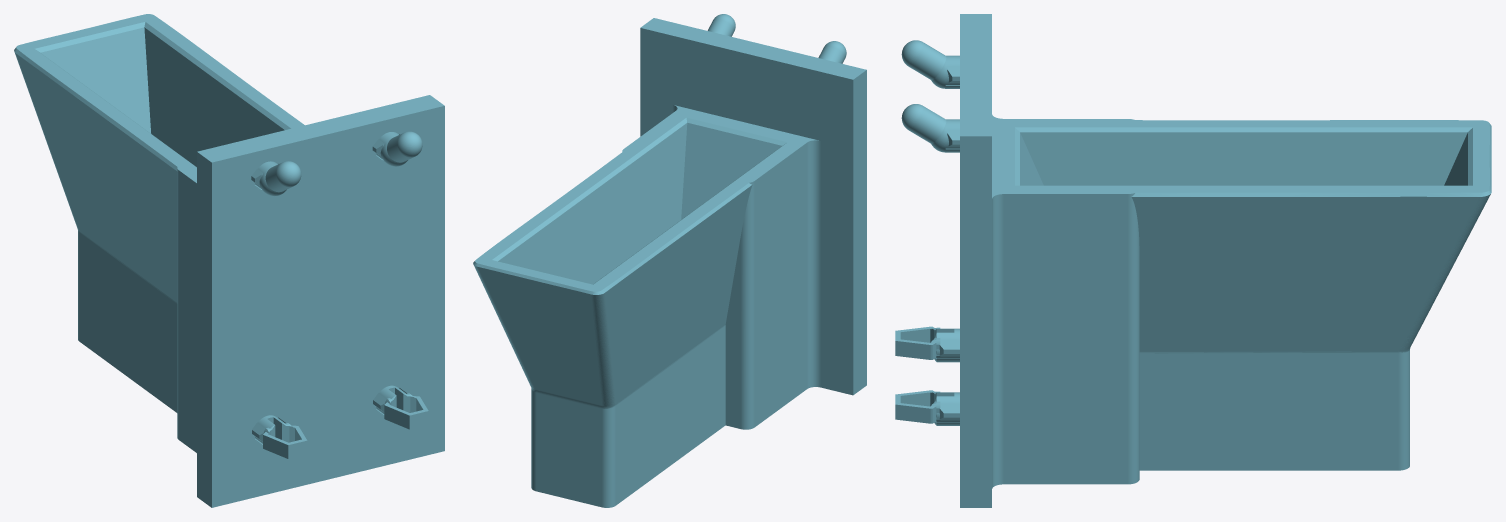
Rendered from part-rectangular-tool-funnel__v3__upright__fit-pf02c9-hoop5__print.glb.
The picture shows the model from 3 angles, left to right: view 1: azimuth 30°, elevation 25°; view 2: azimuth 150°, elevation 25°; view 3: azimuth 270°, elevation 25°; orthographic projection. The views are drawn at different scales.
Parts seen in each view (by area): view 1: part-rectangular-tool-funnel__v3__upright__fit-pf02c9-hoop5_; view 2: part-rectangular-tool-funnel__v3__upright__fit-pf02c9-hoop5_; view 3: part-rectangular-tool-funnel__v3__upright__fit-pf02c9-hoop5_.
Boxes of the visible parts, bbox=[...] form: part-rectangular-tool-funnel__v3__upright__fit-pf02c9-hoop5_: bbox=[14, 14, 444, 507]; part-rectangular-tool-funnel__v3__upright__fit-pf02c9-hoop5_: bbox=[473, 14, 866, 507]; part-rectangular-tool-funnel__v3__upright__fit-pf02c9-hoop5_: bbox=[895, 14, 1491, 507].
Bounding box in the file's own units: 0.0488 × 0.0694 × 0.1006.
